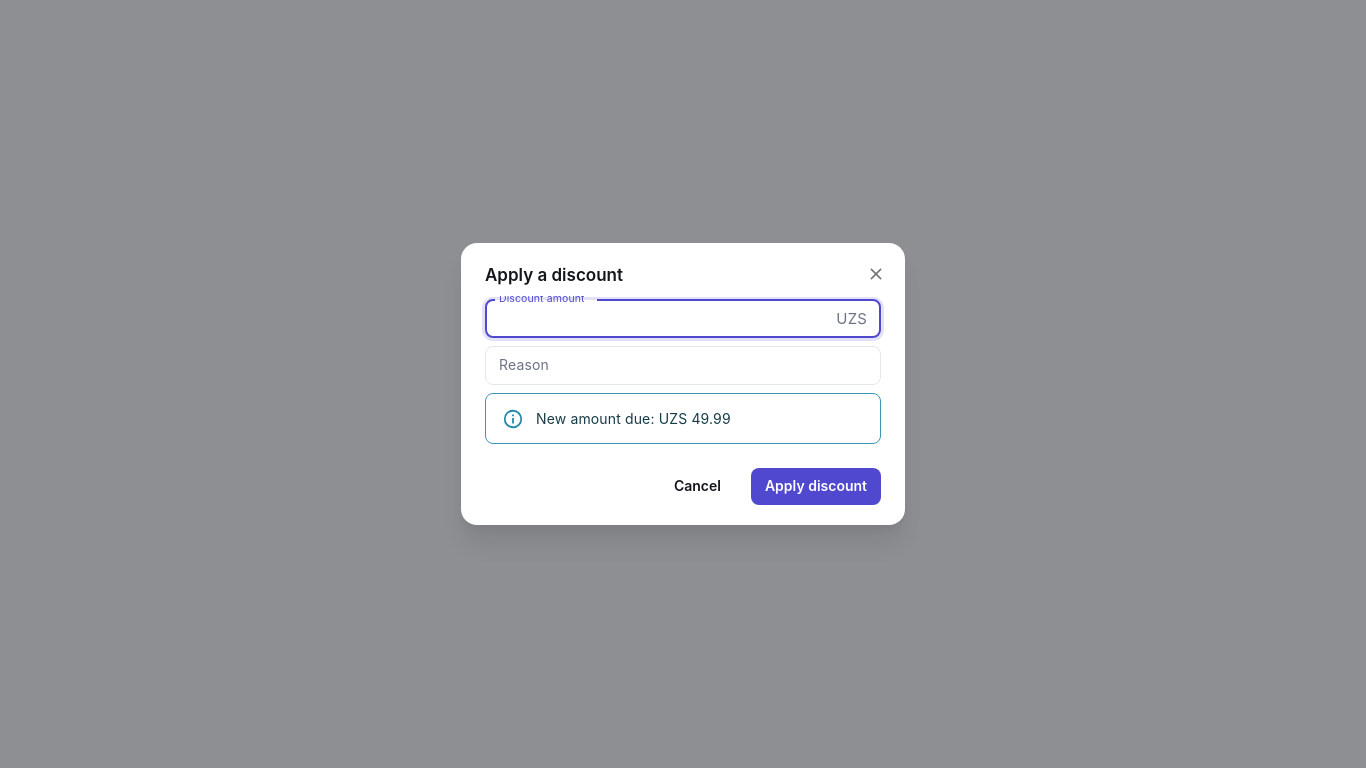
Test: membership actions › discount › refuses a discount larger than the price
Type "99" into the field labelled "Discount amount" at (657, 319), box [485,300,828,338]
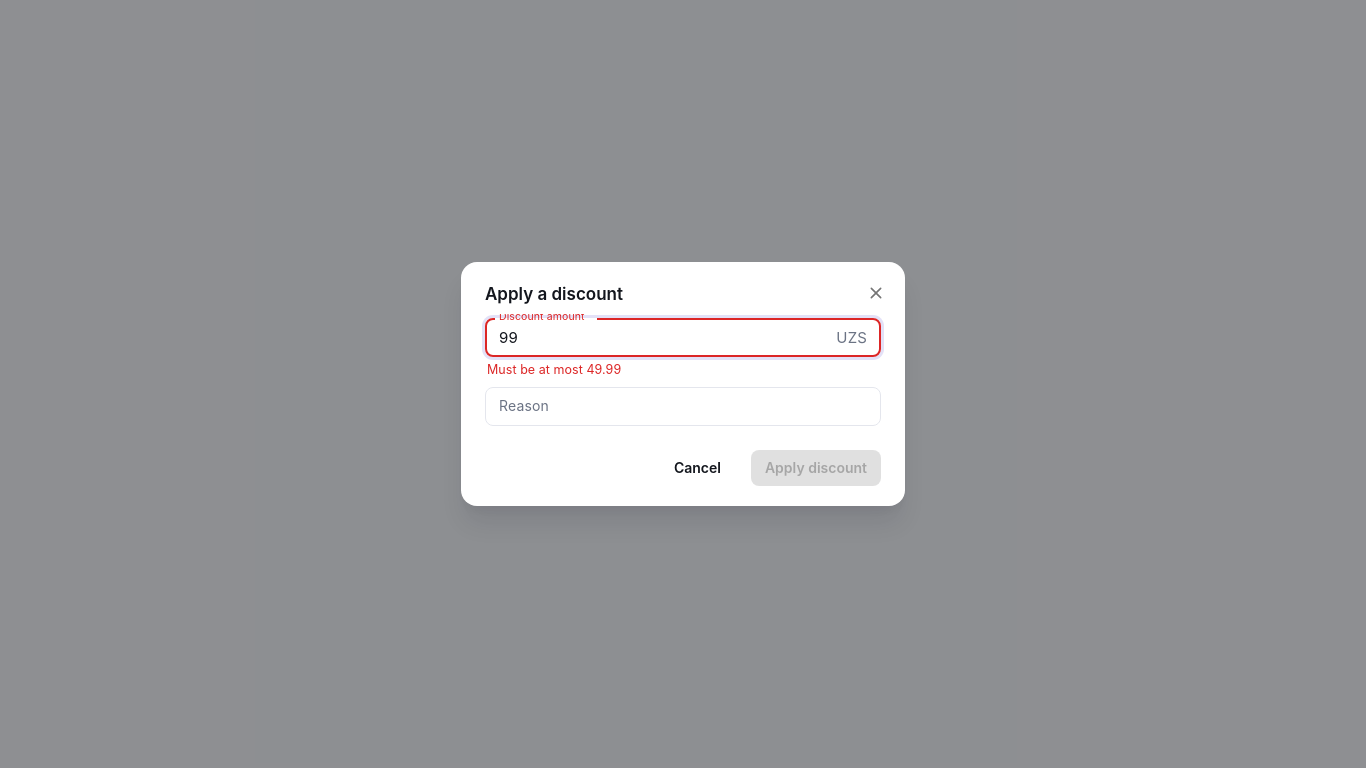
Result: the text "Must be at most 49.99" is shown at [487,362,621,377]
Result: the button "Apply discount" is disabled at [751,450,881,486]
